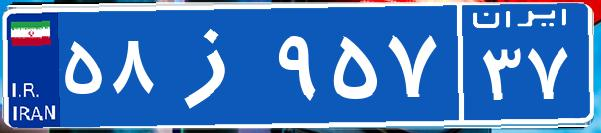3: (475, 38, 525, 113)
5: (330, 28, 385, 110), (57, 26, 110, 107)
7: (385, 28, 445, 110), (525, 38, 570, 115)
8: (110, 28, 158, 105)
9: (273, 28, 330, 110)
ز: (158, 15, 273, 115)
